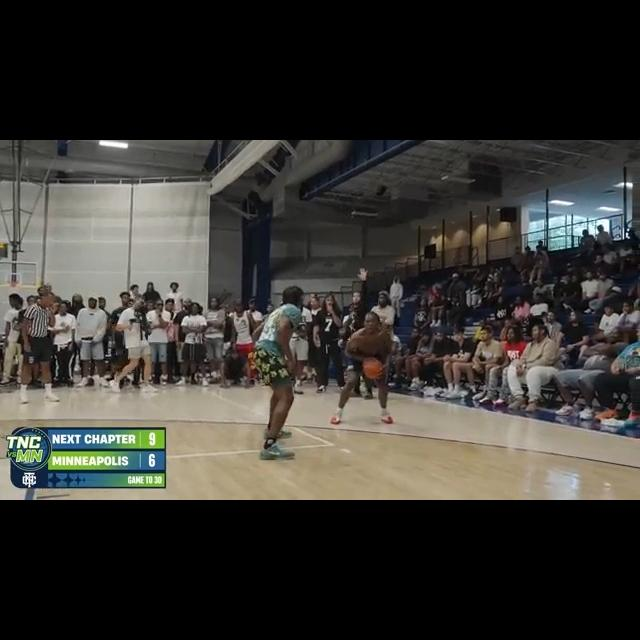basketball: (364, 356, 381, 379)
